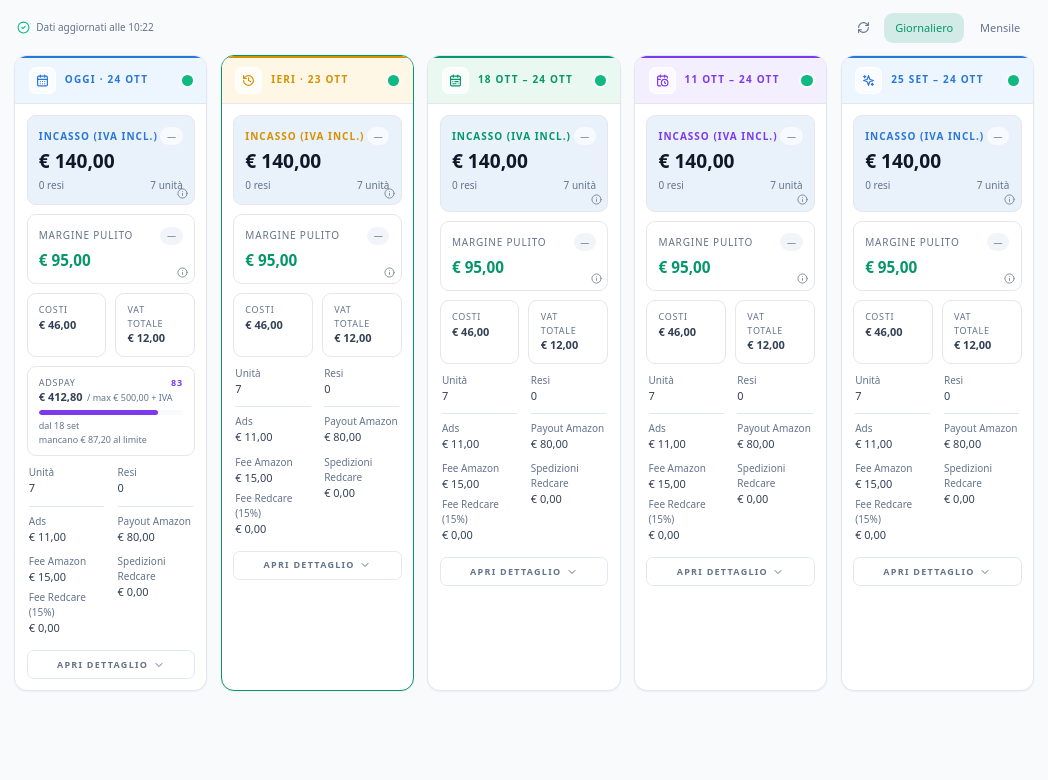
Test: PeriodTiles › switches to the monthly tile set (Mese in corso / Mese scorso) when toggled
Click the button "Mensile" at (1000, 28), box x1=969 y1=13 x2=1032 y2=43
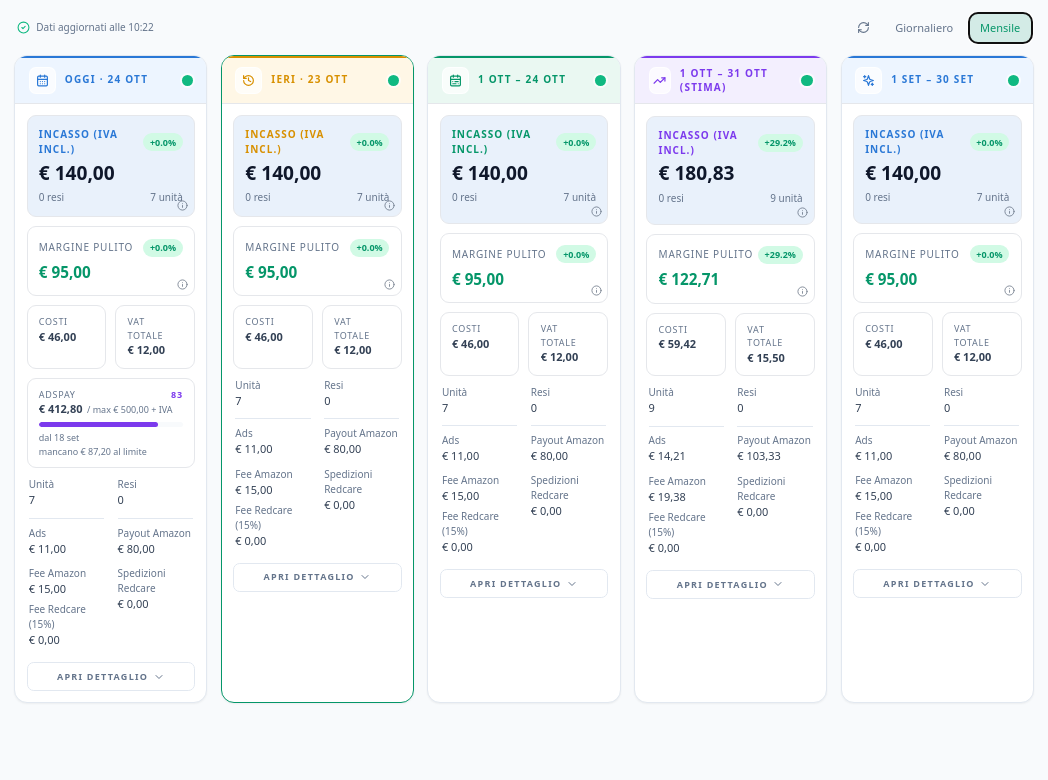
Now the button with aria-label "mese in corso" is shown, box x1=427 y1=55 x2=620 y2=703
Now the button with aria-label "mese scorso" is shown, box x1=841 y1=55 x2=1034 y2=703
